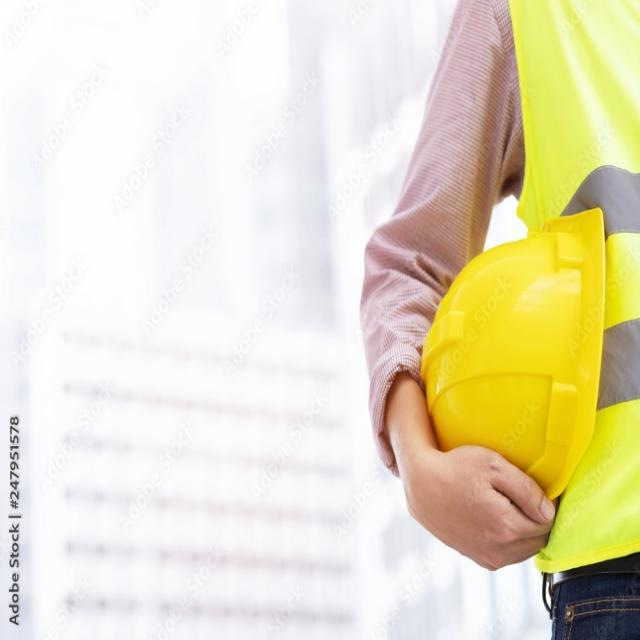Reflective-Jacket: (486, 0, 639, 583)
Safety-Helmet: (414, 202, 612, 505)
